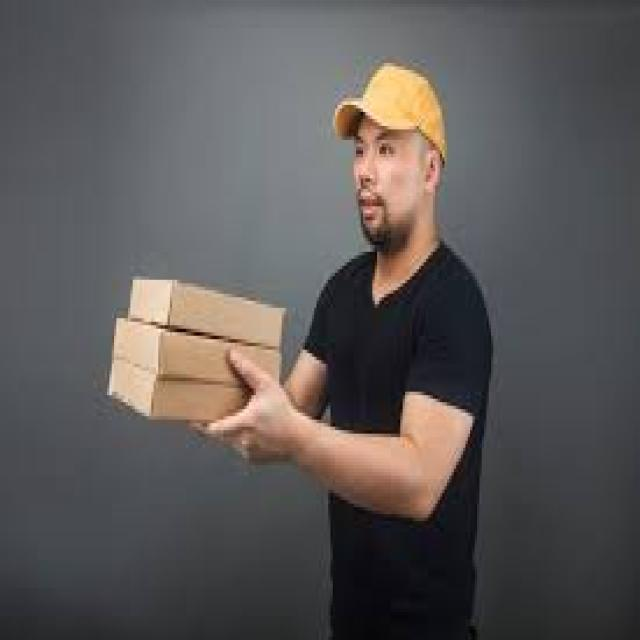cap: (328, 52, 452, 259)
